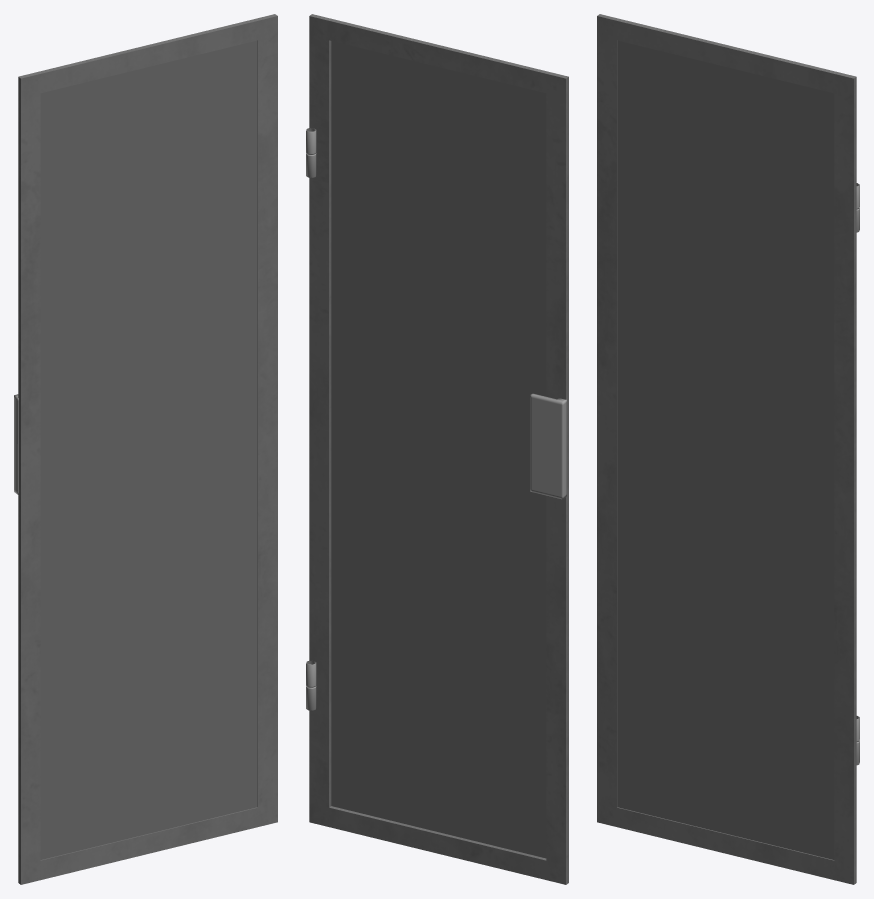
The model's file is DC_door1.glb.
3 views of the same model, side by side, from view 1: azimuth 30°, elevation 25°; view 2: azimuth 150°, elevation 25°; view 3: azimuth 330°, elevation 25° (orthographic).
Visible parts, largest first — view 1: DoorFrame; view 2: DoorFrame; view 3: DoorFrame.
Part boxes in pixels (<box>): DoorFrame: <box>14,14,277,884</box>; DoorFrame: <box>306,14,568,884</box>; DoorFrame: <box>597,14,859,884</box>.
Size of the model in its own units: 0.8785 by 2.63 by 0.0468.
3 materials, 1 textured.
